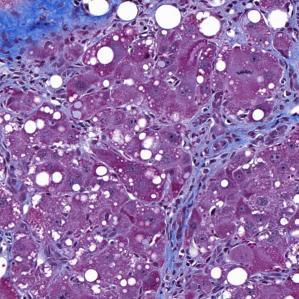fibrosis: (6, 7, 98, 81), (172, 121, 252, 204)
